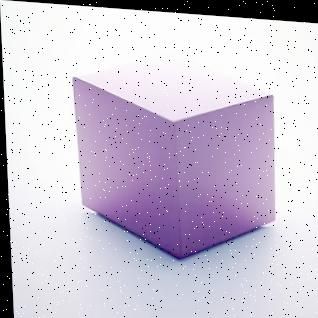cube: (74, 49, 278, 266)
